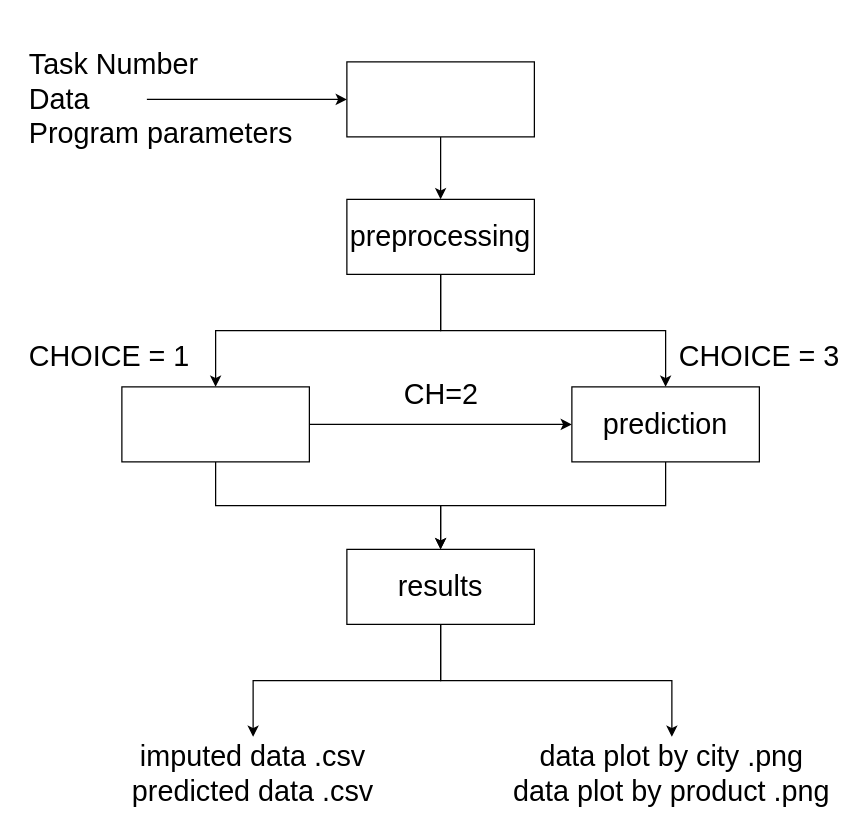
Image size: 868x834. Some labels were removed from this diagram. The shapes that lost their labels are listed below. From the top down, each one's centre as x and y in pixels, then its label:
At (x=440, y=99): "set up".
At (x=215, y=424): "imputation".
